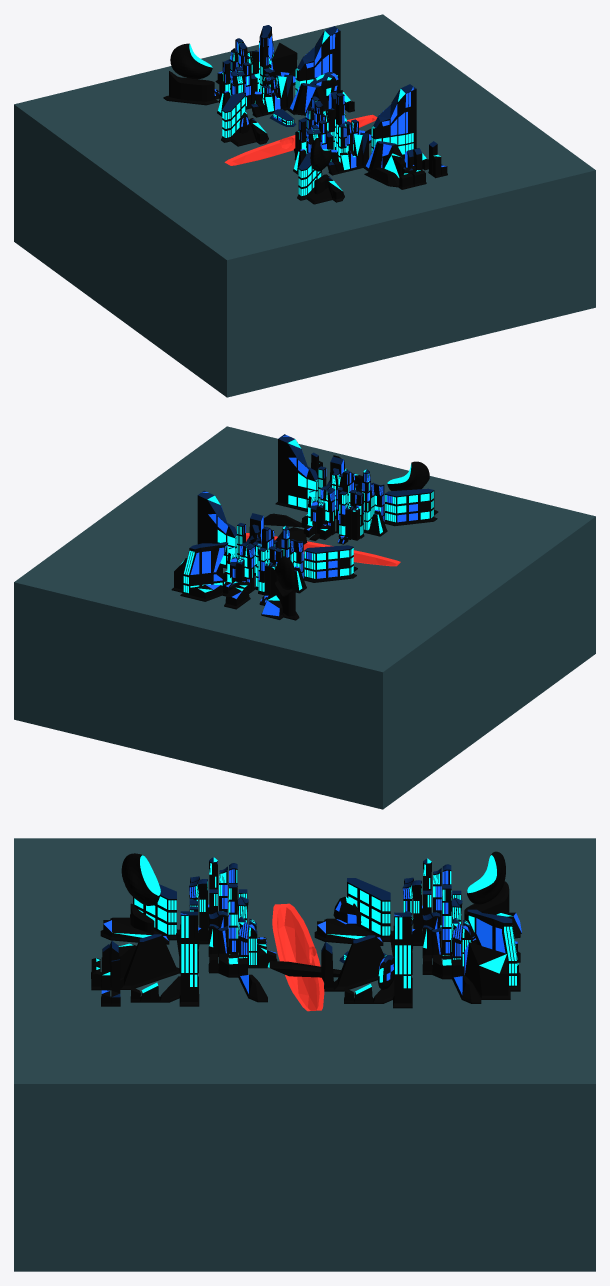
Rendered from cityv0.fbx.
3 renders of one model, top to bottom at view 1: azimuth 30°, elevation 25°; view 2: azimuth 150°, elevation 25°; view 3: azimuth 270°, elevation 25°, orthographic. The views are drawn at different scales.
Parts seen in each view (by area): view 1: Cube, Plane.006, Plane, Plane.001, Plane.007; view 2: Cube, Plane, Plane.006, Plane.001, Plane.007; view 3: Cube, Plane, Plane.006, Plane.007, Plane.001, Plane.003.
Part boxes in pixels (x1,y1,x2,y2): Cube: (14,14,595,397); Plane.006: (293,84,447,204); Plane: (163,25,354,146); Plane.001: (169,43,214,101); Plane.007: (310,138,331,194); Cube: (14,426,595,809); Plane: (171,490,357,620); Plane.006: (264,434,438,544); Plane.001: (274,556,295,616); Plane.007: (387,461,429,490); Cube: (14,838,595,1271); Plane: (268,858,521,1008); Plane.006: (91,857,277,1006); Plane.007: (121,853,160,934); Plane.001: (464,851,509,936); Plane.003: (333,896,361,925).
Bounding box in the file's own units: 18157 × 9562 × 18157.
